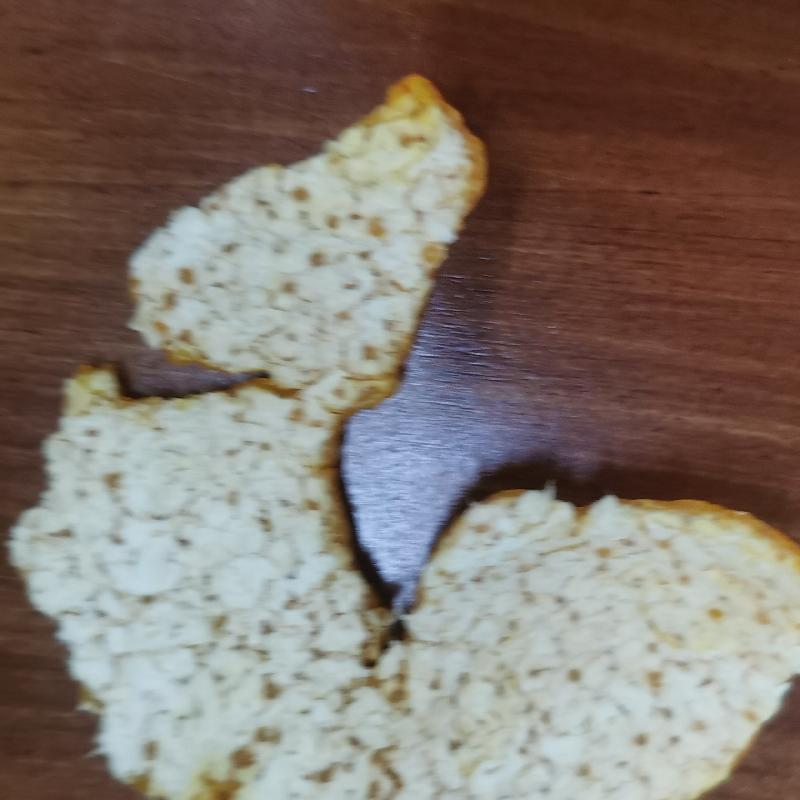orange: (6, 70, 799, 800)
